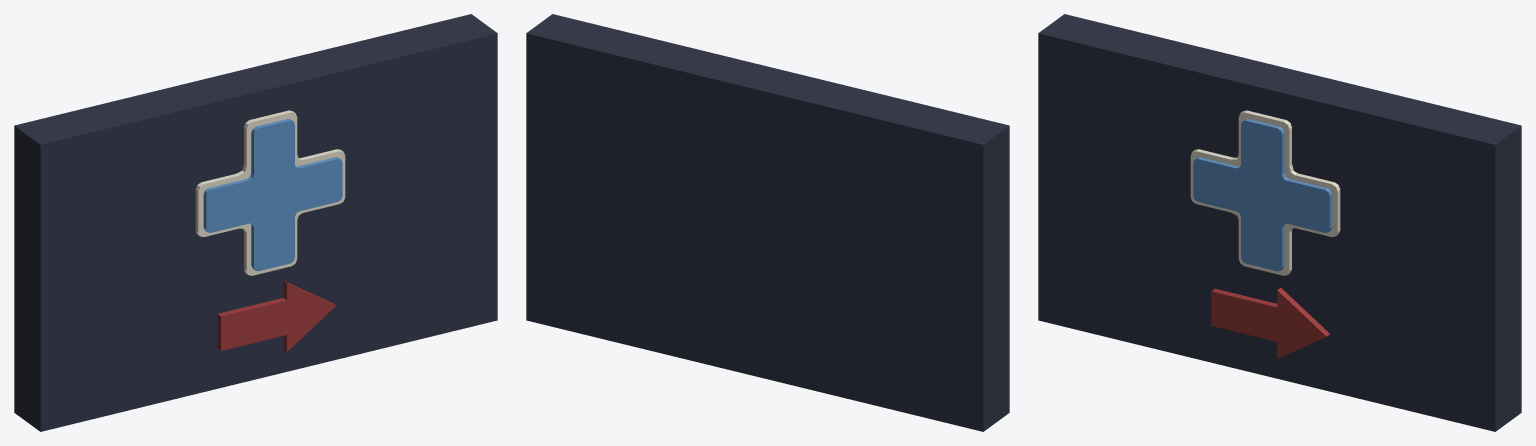
The model's file is pharmacy_wsignRight.fbx.
3 views of the same model, side by side, from view 1: azimuth 30°, elevation 25°; view 2: azimuth 150°, elevation 25°; view 3: azimuth 330°, elevation 25° (orthographic).
Parts seen in each view (by area): view 1: pharmacy_wsignRIght; view 2: pharmacy_wsignRIght; view 3: pharmacy_wsignRIght.
Boxes of the visible parts, box(x1,y1,x2,y2) form: pharmacy_wsignRIght: box(14, 14, 497, 431); pharmacy_wsignRIght: box(526, 14, 1009, 431); pharmacy_wsignRIght: box(1038, 14, 1521, 431).
Bounding box in the file's own units: 1 × 0.6 × 0.1199.
